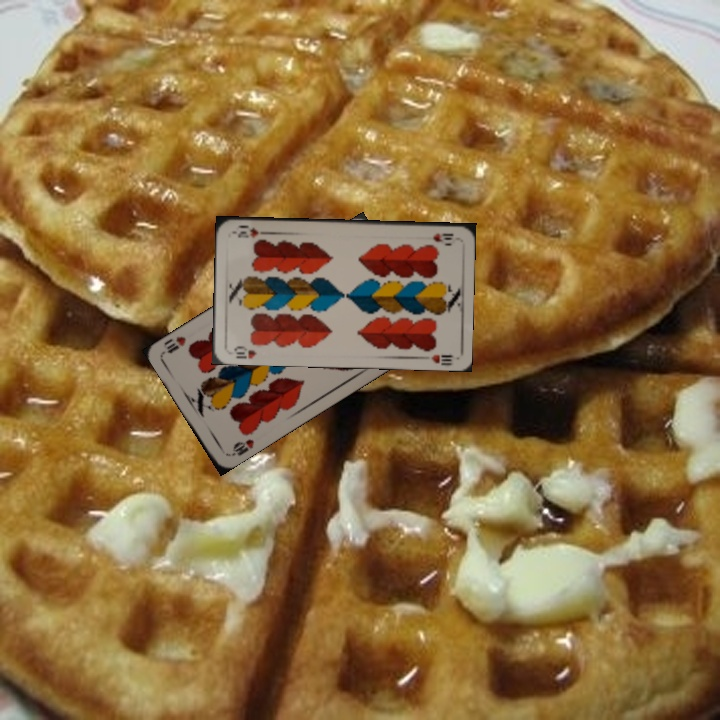H10: (225, 435, 257, 459), (230, 342, 259, 361), (429, 229, 456, 244)
